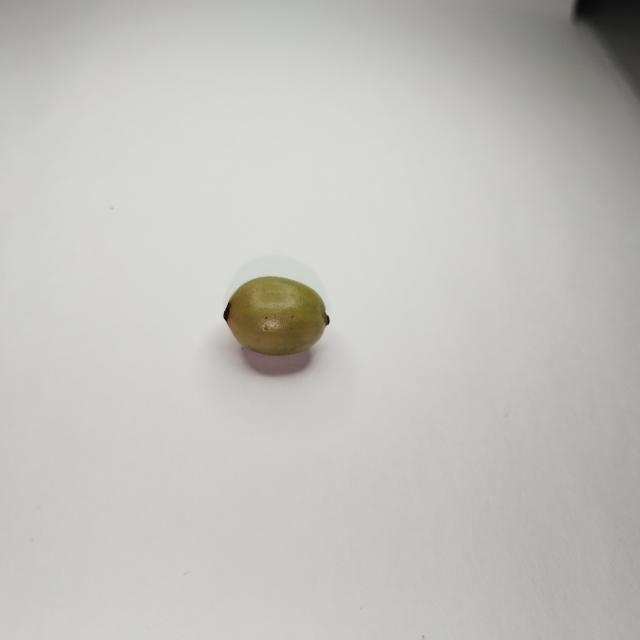Sano: (223, 275, 329, 366)
